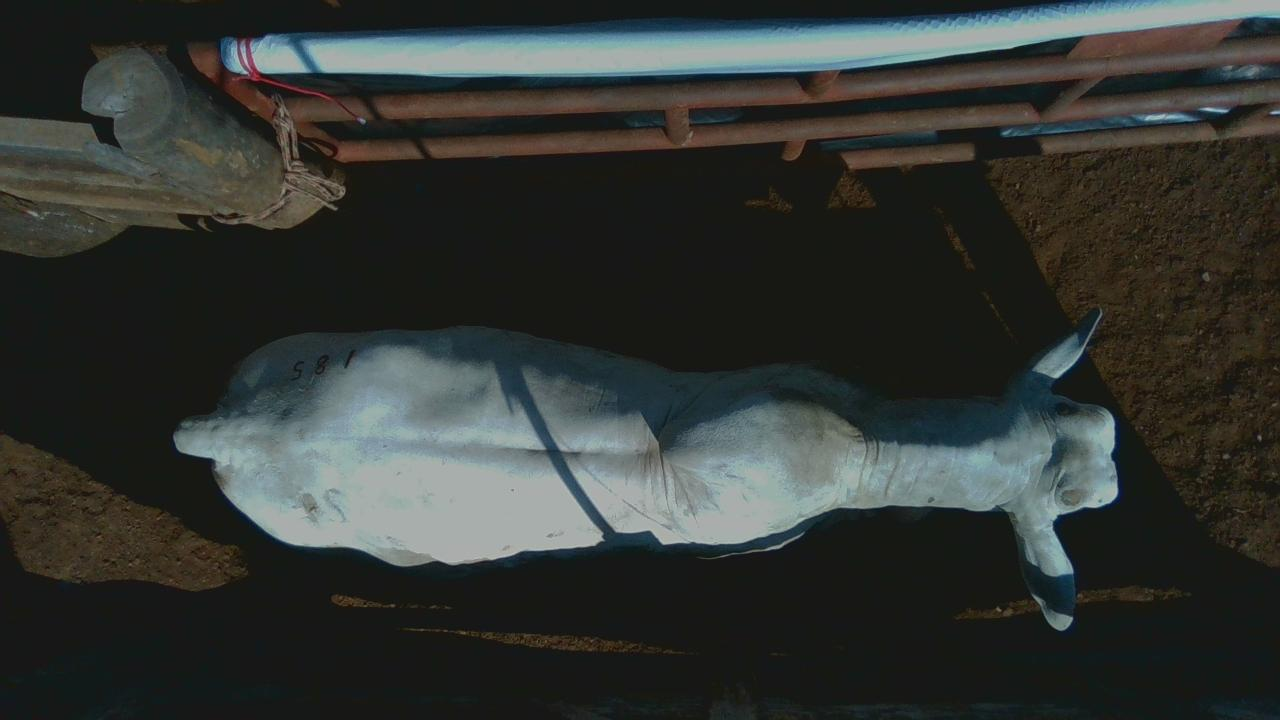cattle: (172, 305, 1120, 632)
